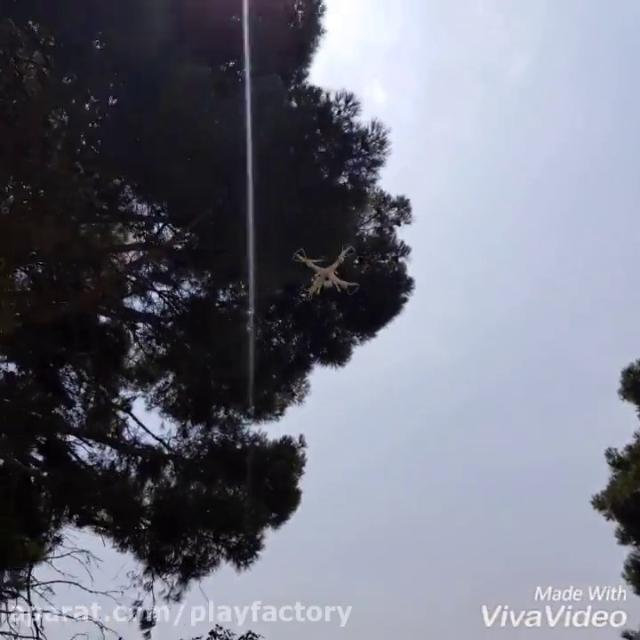drone: (292, 241, 364, 303)
